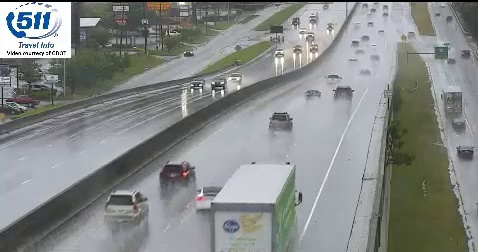car: (105, 190, 148, 222), (160, 161, 194, 186), (195, 187, 222, 211), (269, 113, 292, 132), (334, 86, 353, 102)
small-truck: (211, 164, 295, 252)
